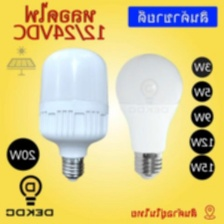light_bulb: (35, 44, 113, 182), (113, 51, 187, 184)
